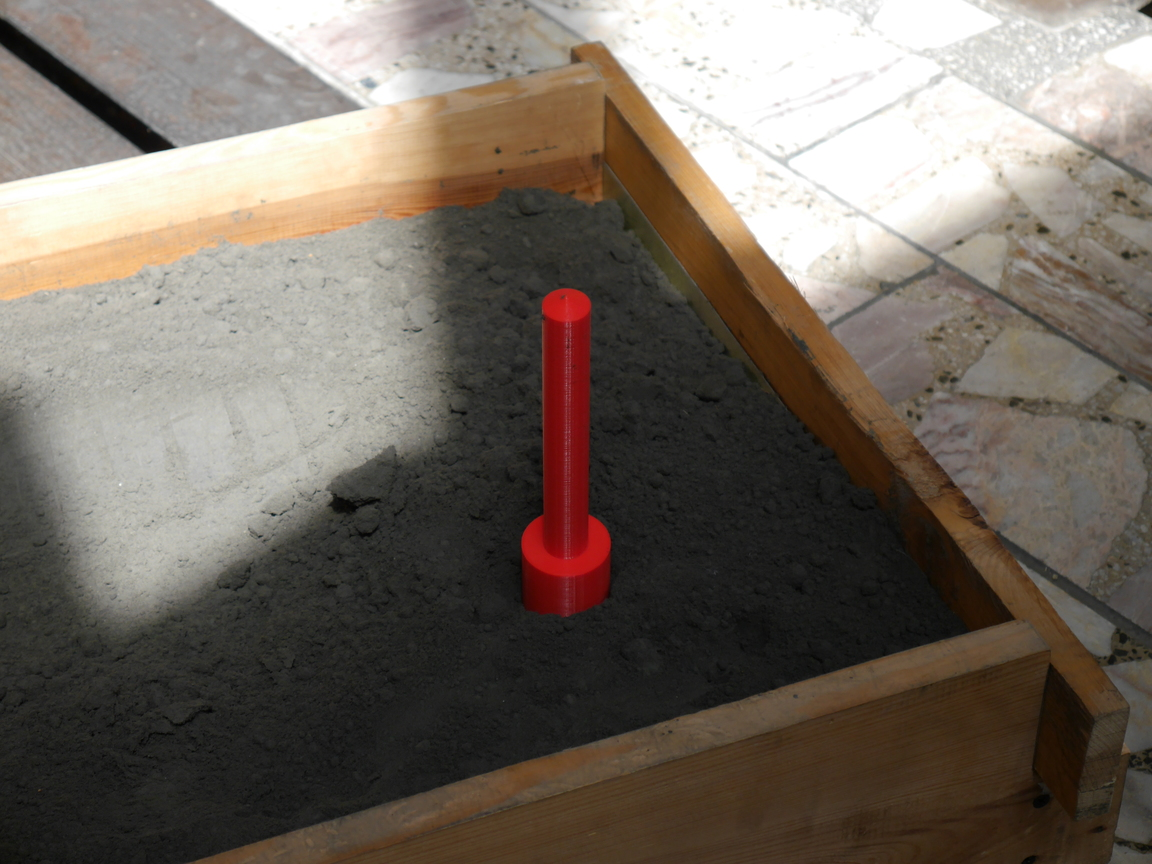cargo_g: (519, 289, 613, 622)
